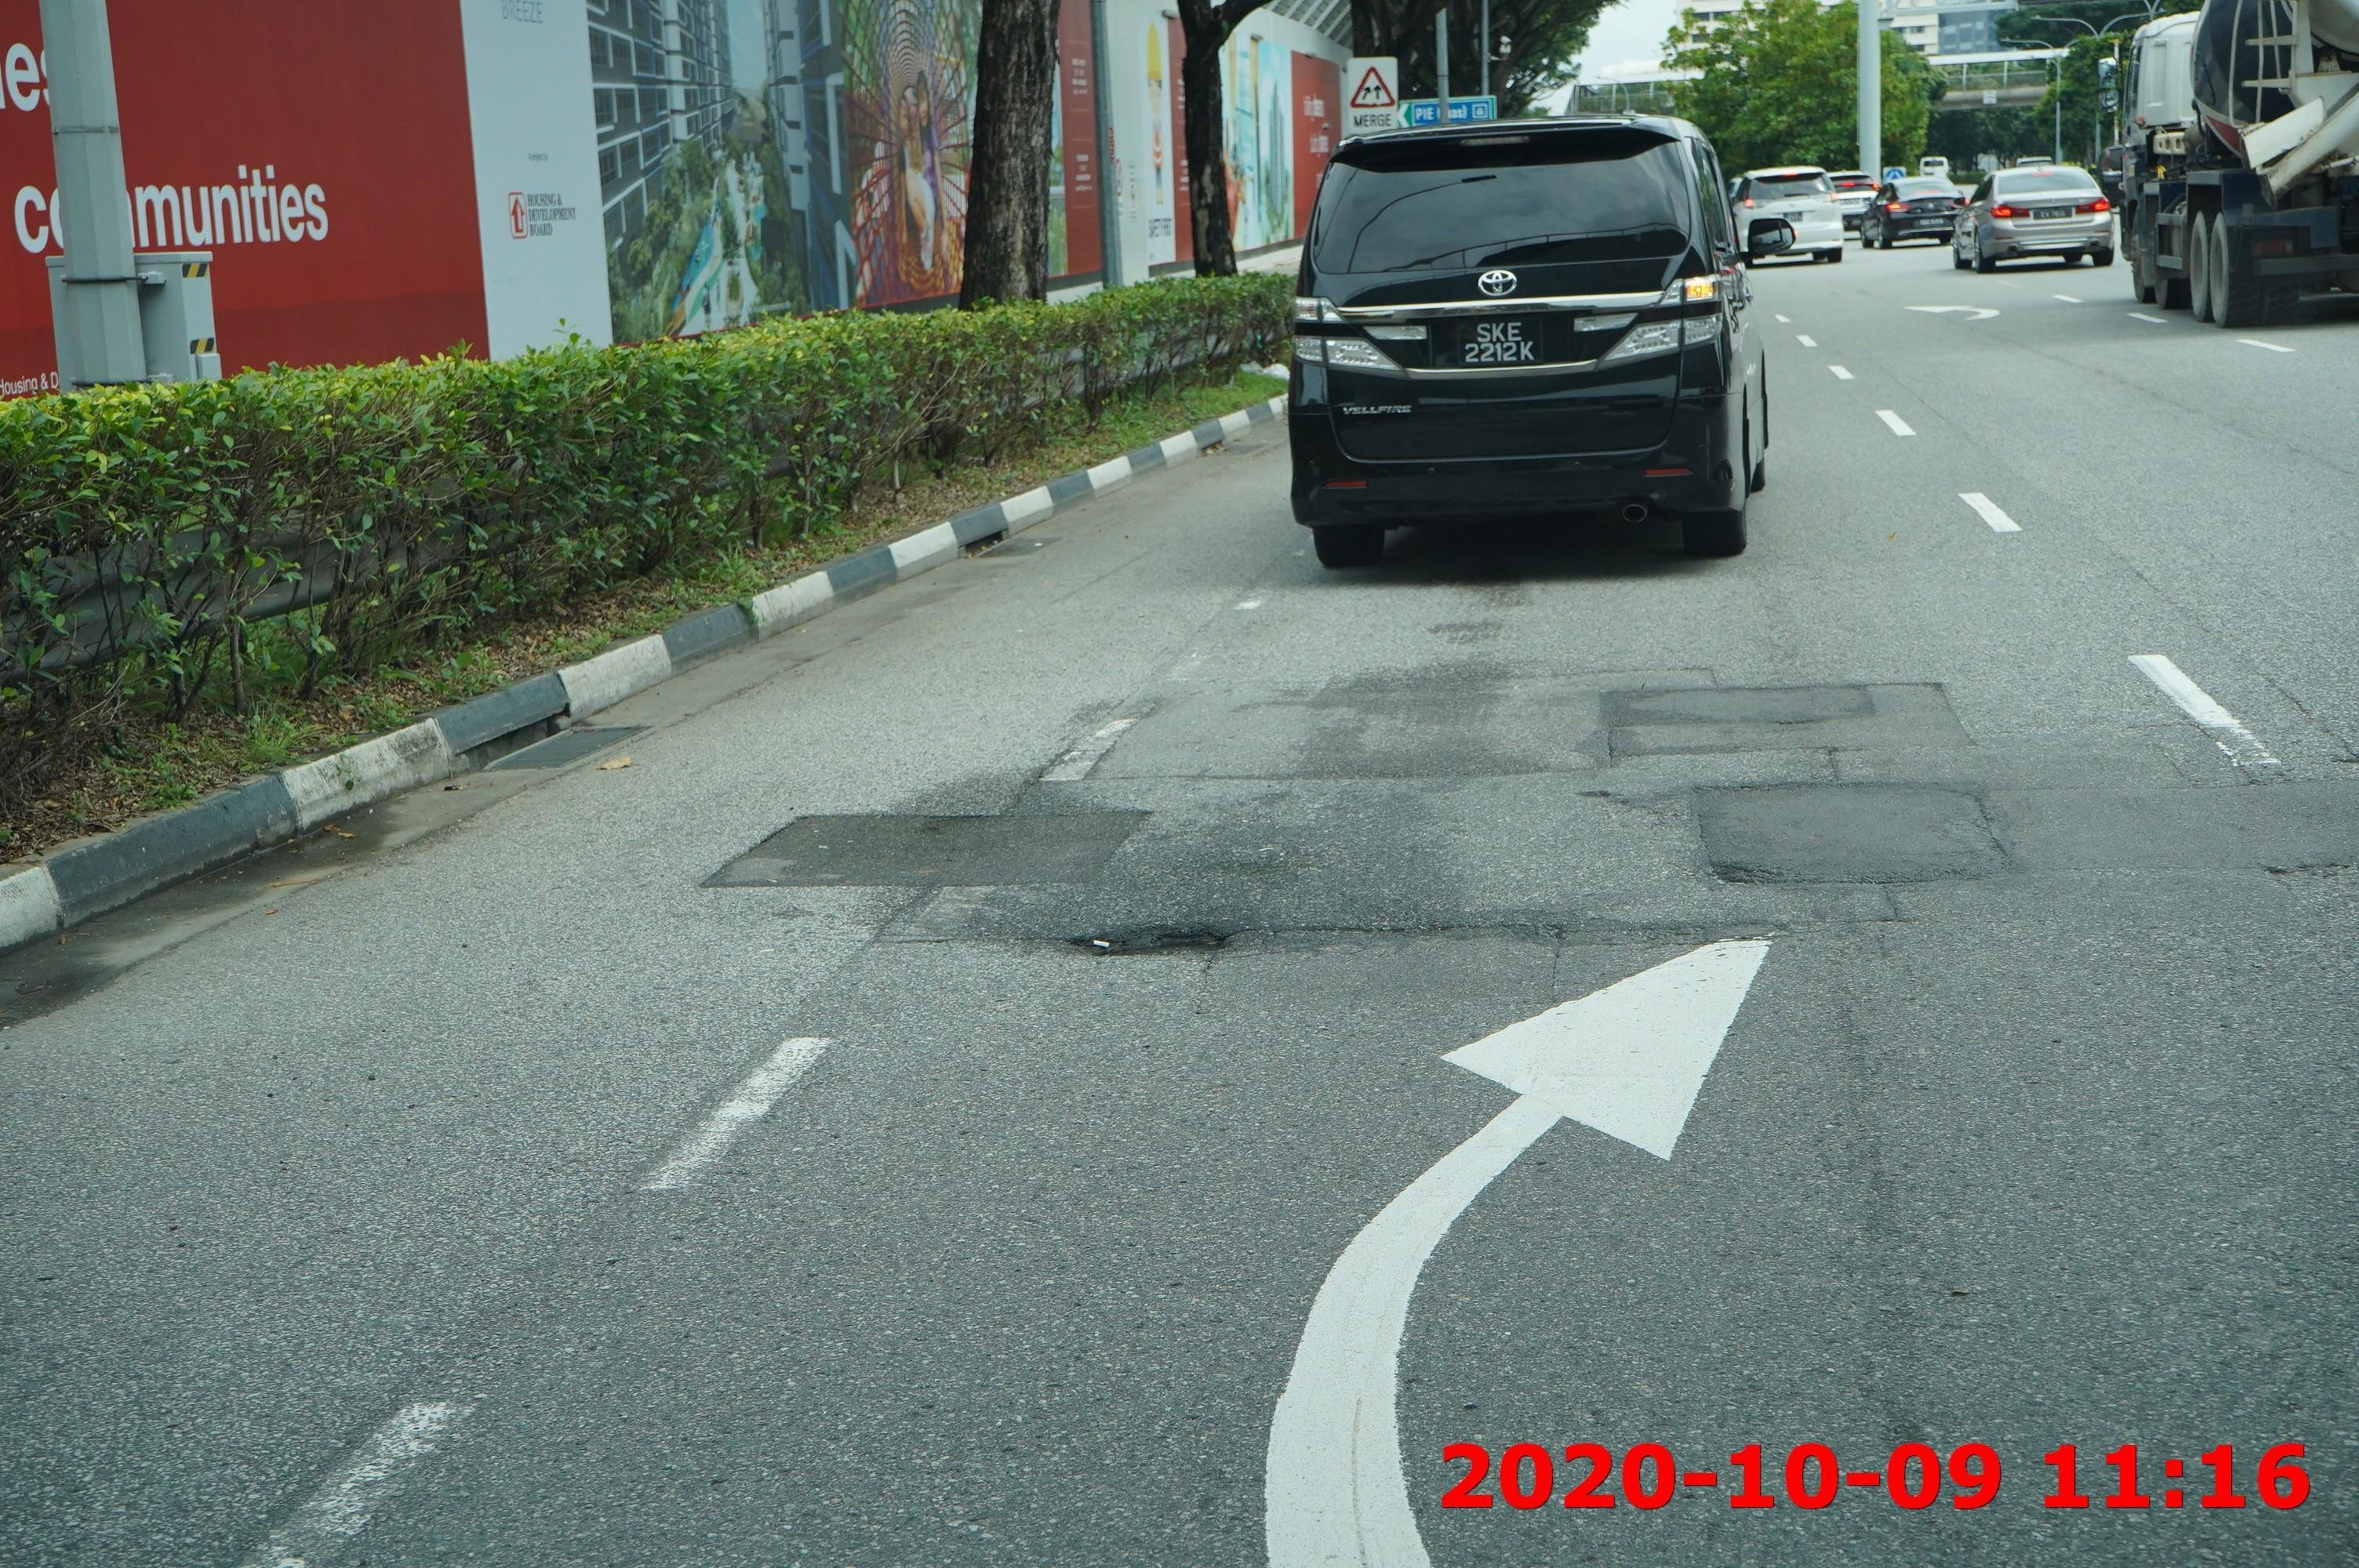peeling off premix: (1064, 912, 1245, 962)
